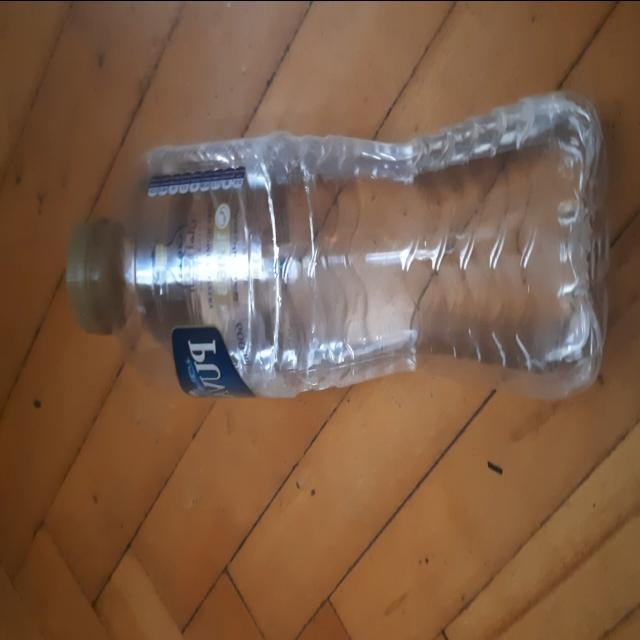Plastic: (66, 88, 616, 398)
